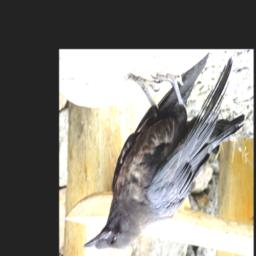Crow: (82, 54, 246, 252)
